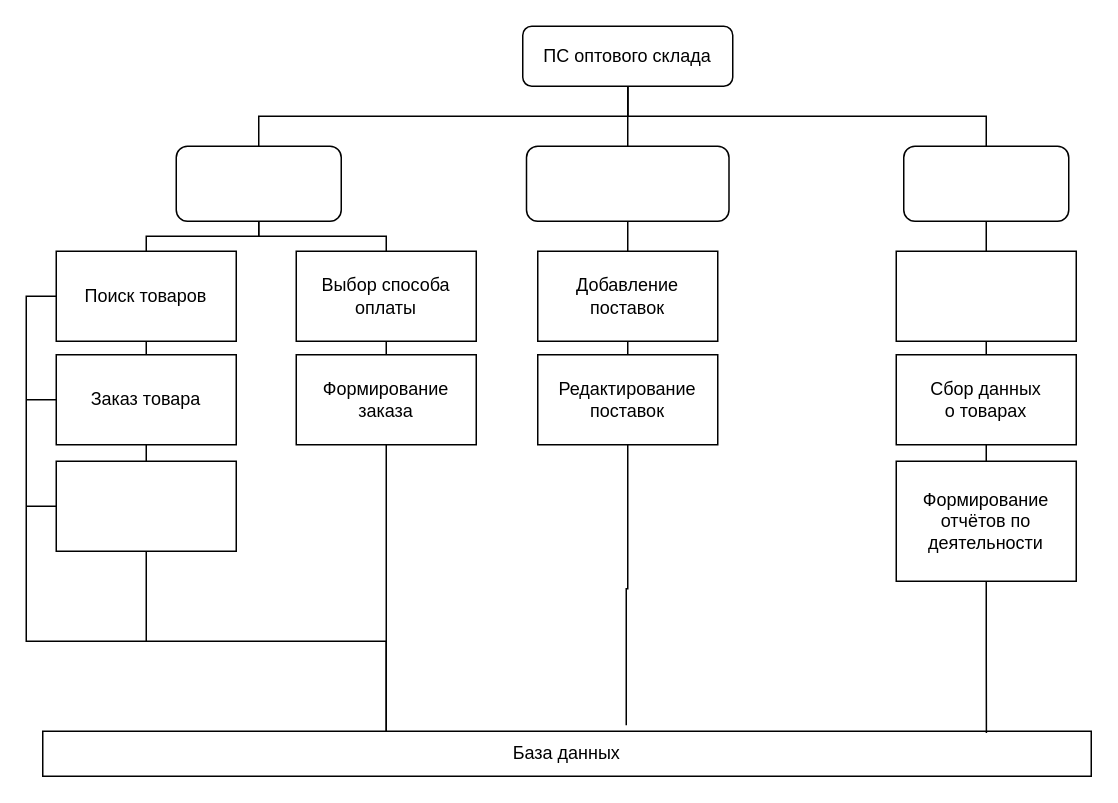
The diagram is 1118 pixels wide and 803 high, and some of its shapes have lost their labels. Each missing label, with the centre of its shape:
"Ввод данных доставки" goes at point (145, 505).
"Оптовая покупка товаров" goes at point (258, 183).
"Сбор данных о поставках" goes at point (985, 295).
"Управление поставками" goes at point (627, 183).
"Формирование отчётов" goes at point (985, 183).
